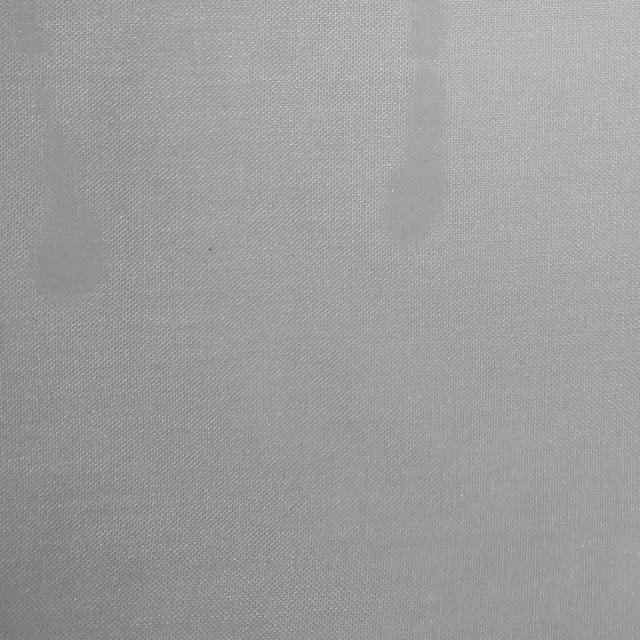Stain: (385, 0, 445, 243), (31, 123, 104, 303), (11, 0, 44, 55)
